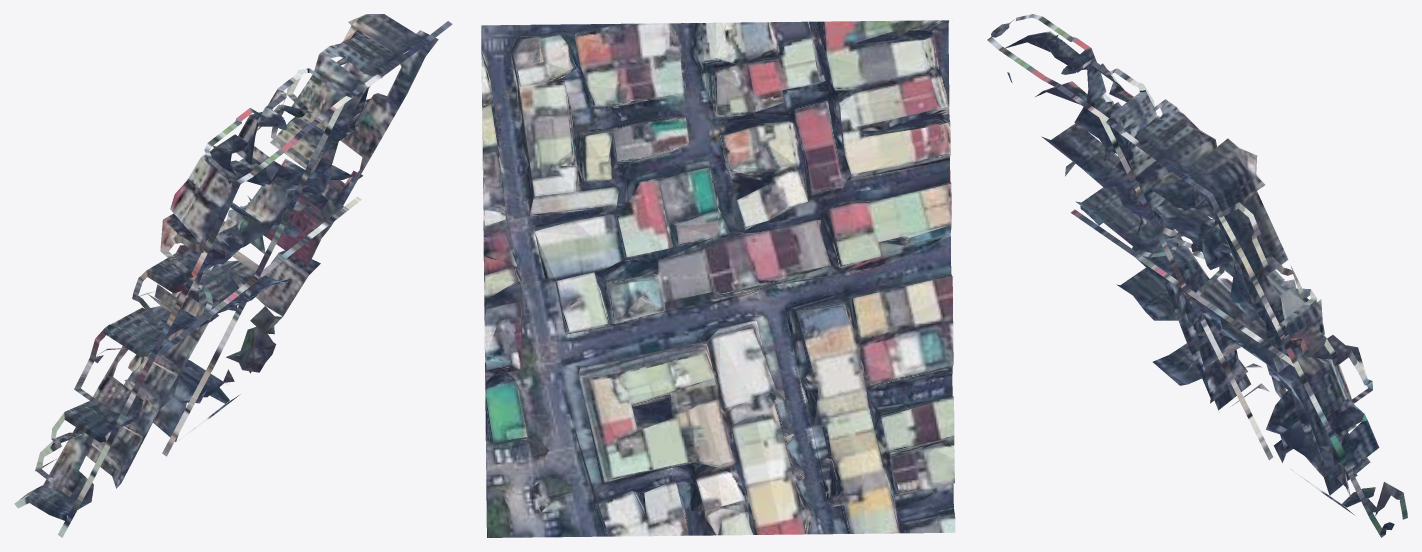
The picture shows the model from 3 angles, left to right: view 1: azimuth 30°, elevation 25°; view 2: azimuth 150°, elevation 25°; view 3: azimuth 270°, elevation 25°; orthographic projection. The views are drawn at different scales.
Bounding box in the file's own units: 162 × 146 × 136.
Materials: 1 (1 with a texture image).
